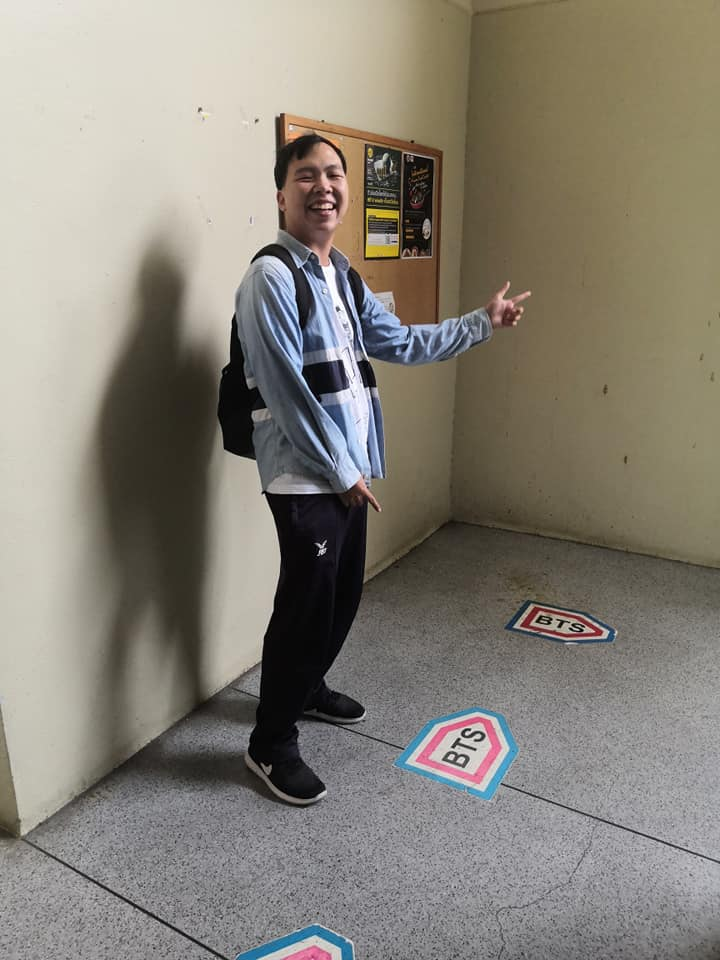Nut: (260, 128, 361, 249)
